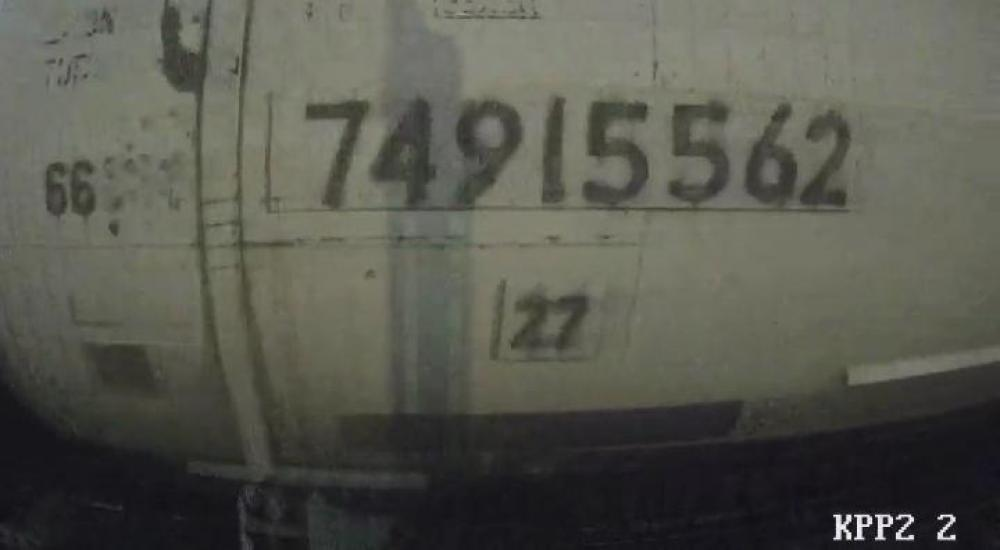Wagon-number: (292, 94, 849, 214)
